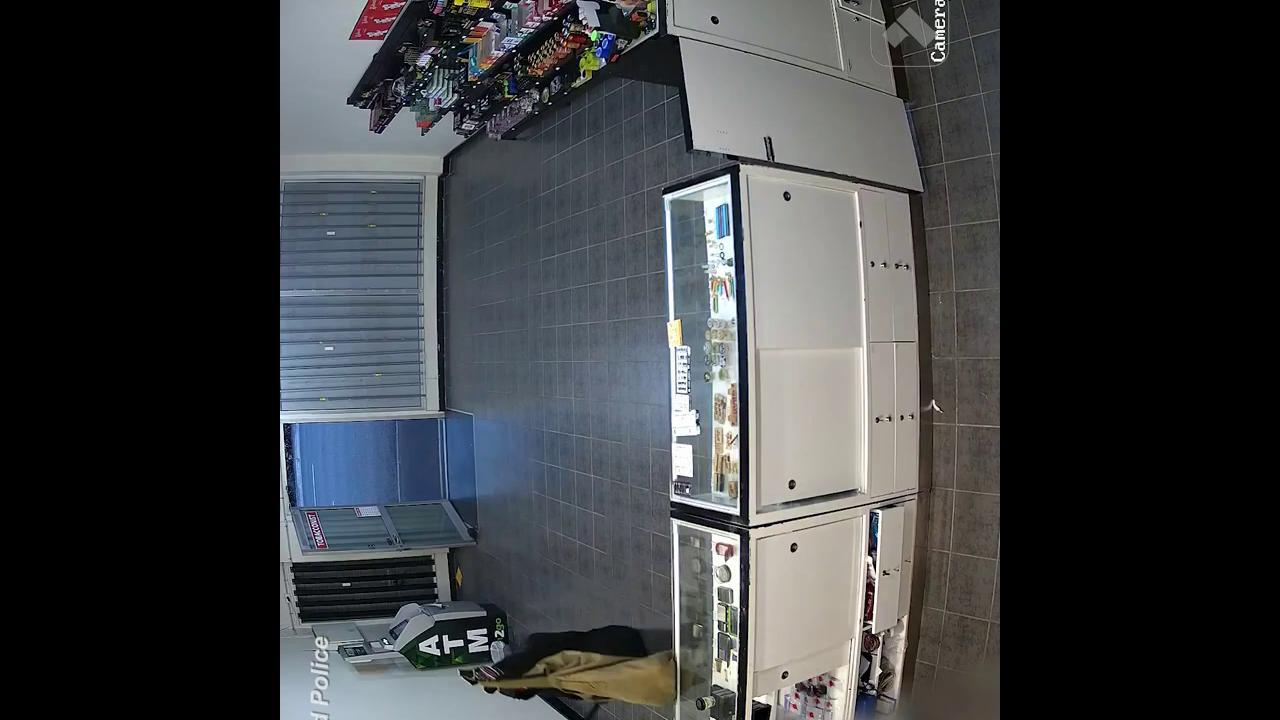melee: (562, 690, 612, 720)
